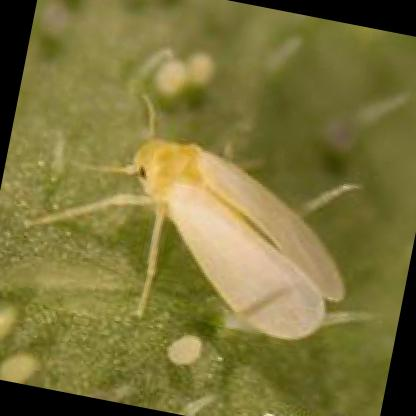whitefly: (124, 137, 347, 338)
